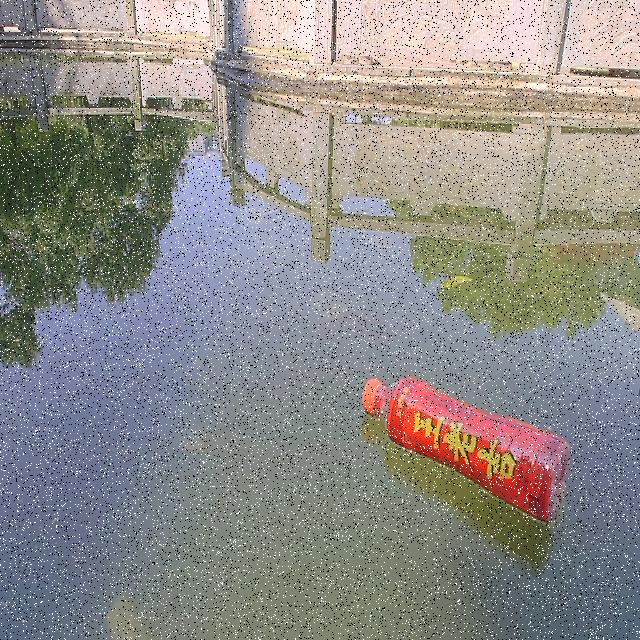Bottle: (358, 368, 576, 529)
